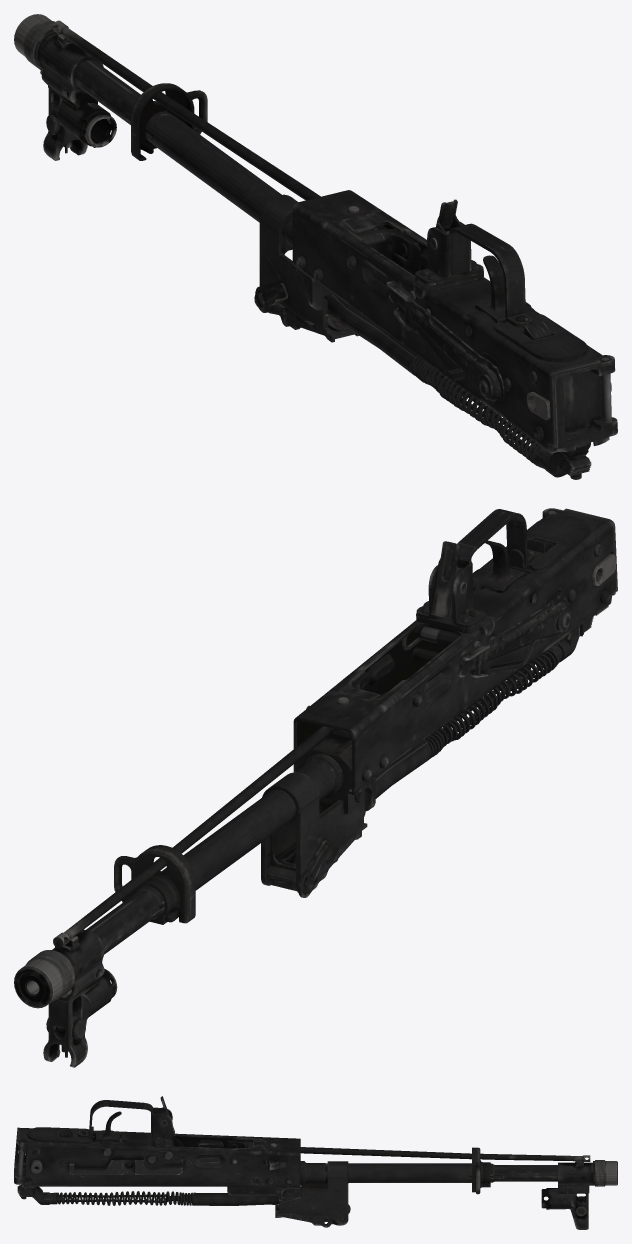
The picture shows the model from 3 angles, top to bottom: view 1: azimuth 30°, elevation 25°; view 2: azimuth 150°, elevation 25°; view 3: azimuth 270°, elevation 25°; orthographic projection. The views are drawn at different scales.
Parts seen in each view (by area): view 1: TW_5ac66d725acfc43b321d4b60_PZ_Import; view 2: TW_5ac66d725acfc43b321d4b60_PZ_Import; view 3: TW_5ac66d725acfc43b321d4b60_PZ_Import.
Part boxes in pixels (bbox=[...]): TW_5ac66d725acfc43b321d4b60_PZ_Import: bbox=[14, 14, 617, 479]; TW_5ac66d725acfc43b321d4b60_PZ_Import: bbox=[14, 508, 617, 1067]; TW_5ac66d725acfc43b321d4b60_PZ_Import: bbox=[14, 1096, 617, 1229].
Size of the model in its own units: 0.0285 by 0.3124 by 0.0735.
Materials: 1 (1 with a texture image).
